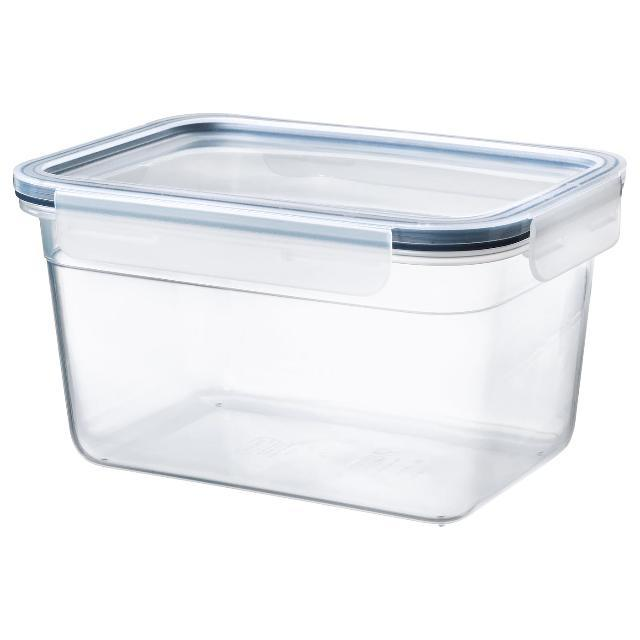plastic: (14, 113, 625, 522)
